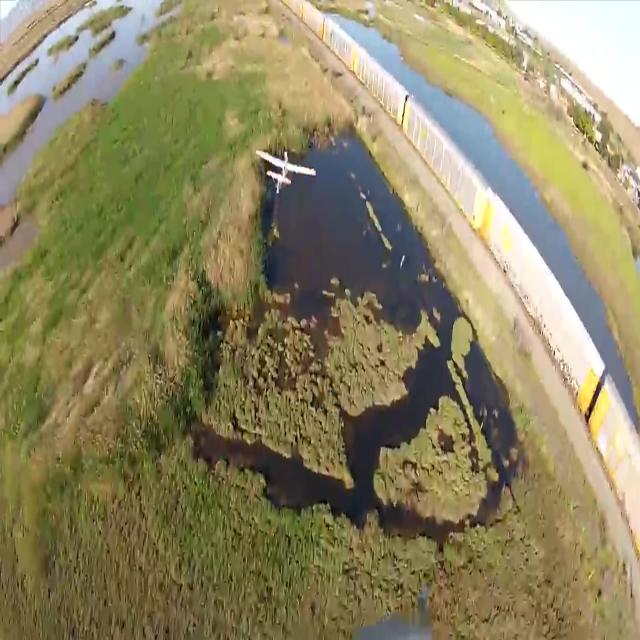iha: (255, 149, 317, 194)
